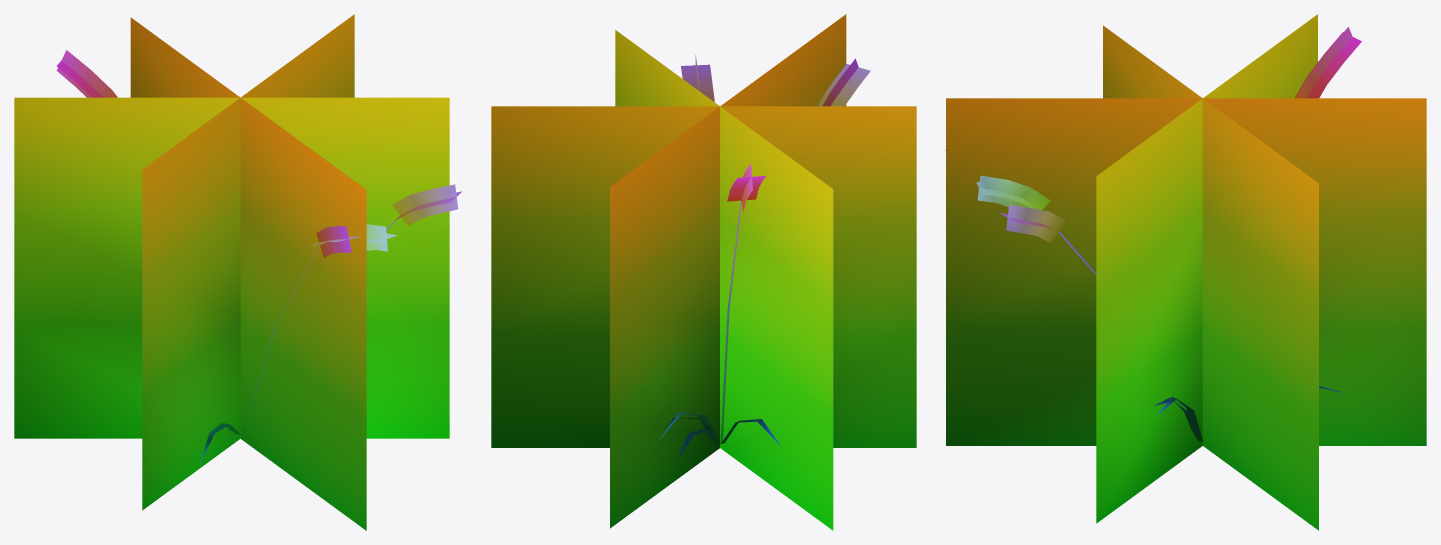
File: Grass_Barnyard_A.fbx
The picture shows the model from 3 angles, left to right: view 1: azimuth 30°, elevation 25°; view 2: azimuth 150°, elevation 25°; view 3: azimuth 270°, elevation 25°; orthographic projection.
Parts seen in each view (by area): view 1: Grass_Barnyard_A_LOD0; view 2: Grass_Barnyard_A_LOD0; view 3: Grass_Barnyard_A_LOD0.
Boxes of the visible parts, bbox=[...] form: Grass_Barnyard_A_LOD0: bbox=[14, 14, 461, 530]; Grass_Barnyard_A_LOD0: bbox=[491, 14, 916, 530]; Grass_Barnyard_A_LOD0: bbox=[945, 14, 1426, 530].
Size of what is drawn, in the model's own units: 0.875 by 0.8865 by 1.05.
